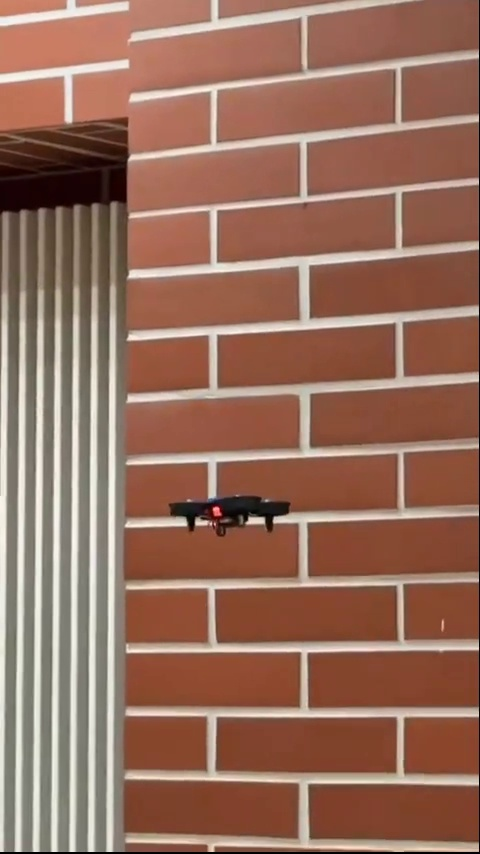drone: (166, 490, 295, 537)
